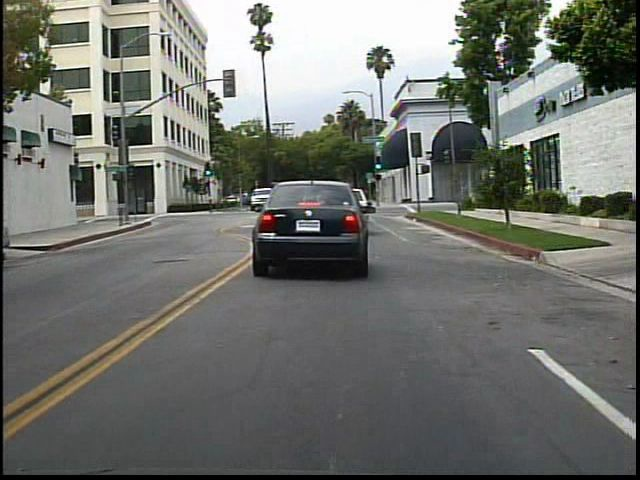person: (319, 180, 345, 220)
